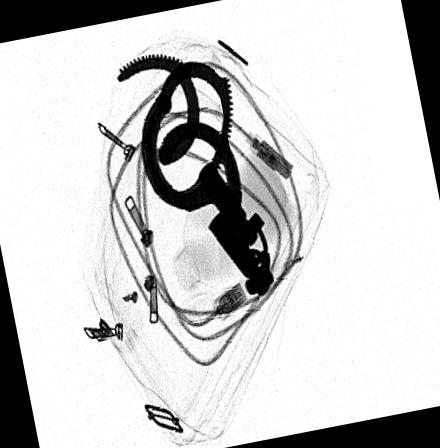HandCuffs: (112, 50, 274, 301)
